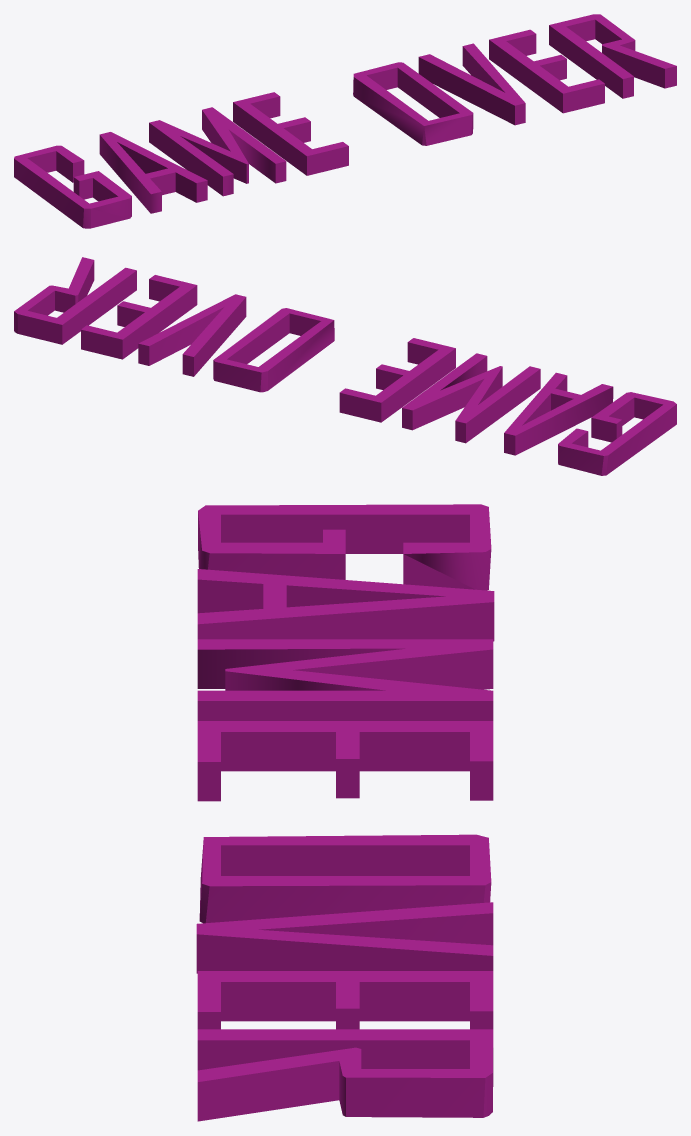
File: GAMEOVER.obj
3 views of the same model, one above another, from view 1: azimuth 30°, elevation 25°; view 2: azimuth 150°, elevation 25°; view 3: azimuth 270°, elevation 25° (orthographic). The views are drawn at different scales.
Parts seen in each view (by area): view 1: Text001; view 2: Text001; view 3: Text001.
Part boxes in pixels (x1,y1,x2,y2): Text001: (14,14,676,228); Text001: (14,257,676,475); Text001: (196,504,494,1121).
Bounding box in the file's own units: 315 × 10 × 68.5.
